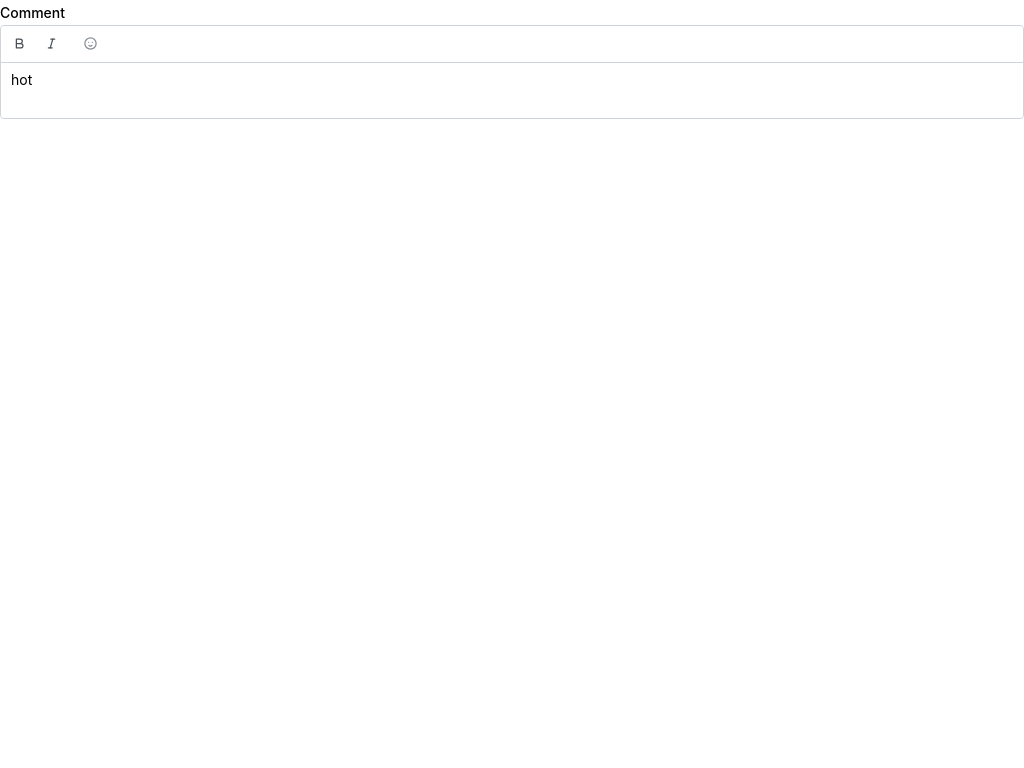
Test: RichTextarea › shortcuts and toolbar › inserts an emoji from the picker
Click the button named "Insert emoji": (90, 44) [79,33,101,55]
(page scrolled)
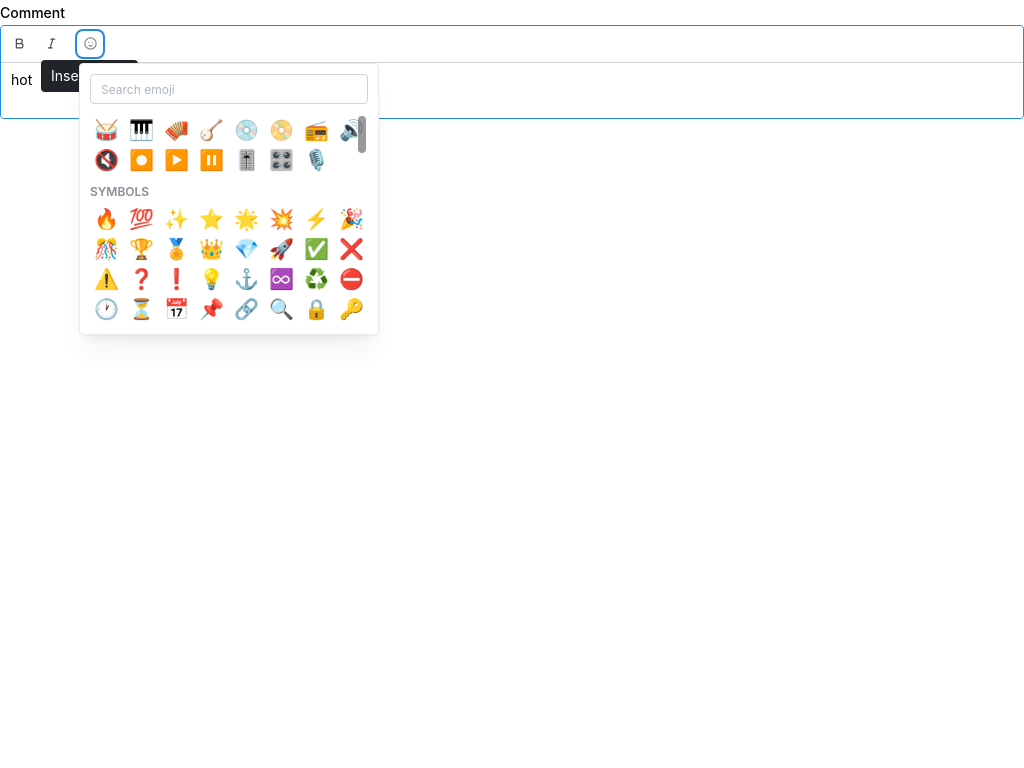
Click the button named "fire": (106, 219) [90,205,123,233]
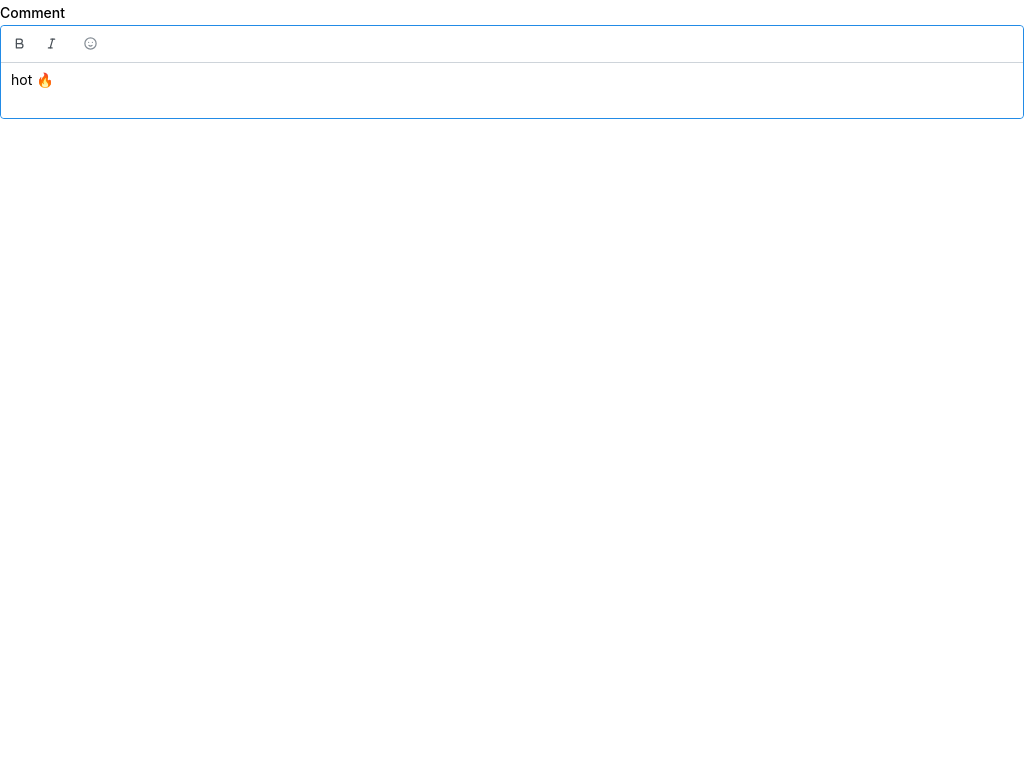
Expected: the text box labelled "hot 🔥" is shown, [11,71,54,88]
